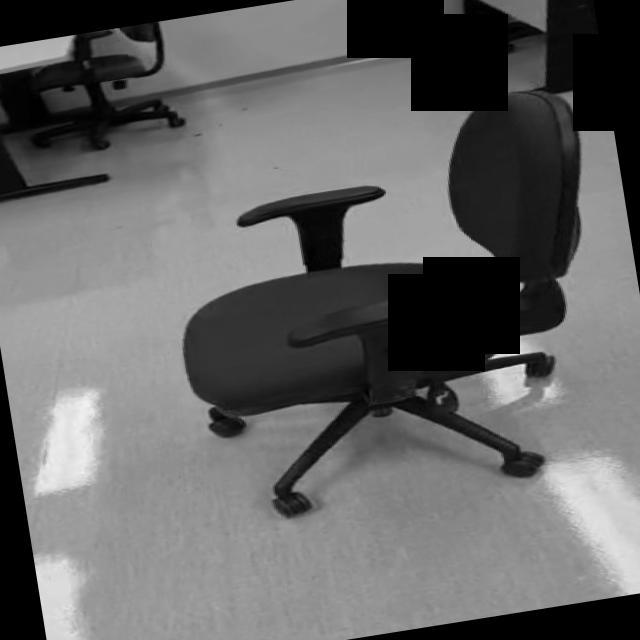chair: (149, 84, 632, 532)
